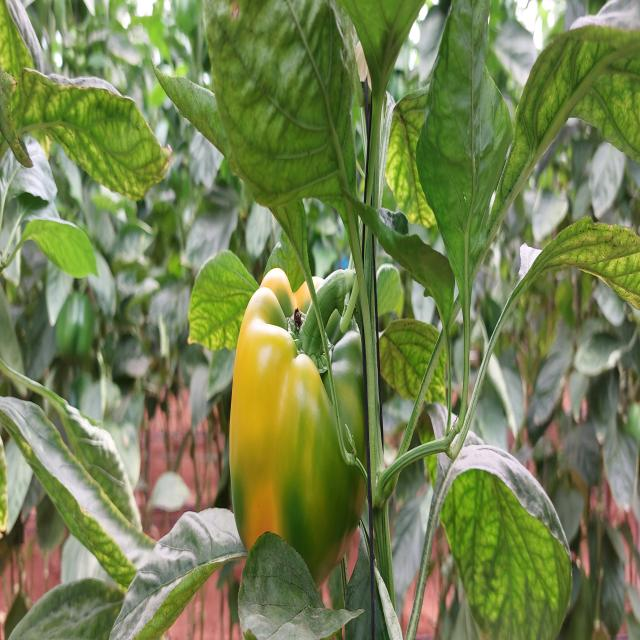GreenishYellow--Can-be-Harvested: (215, 240, 386, 612)
